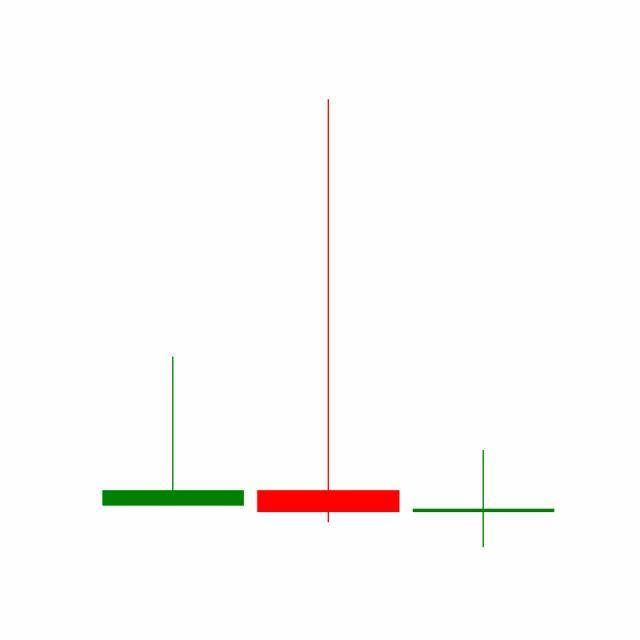Spinning Top: (406, 449, 562, 549)
